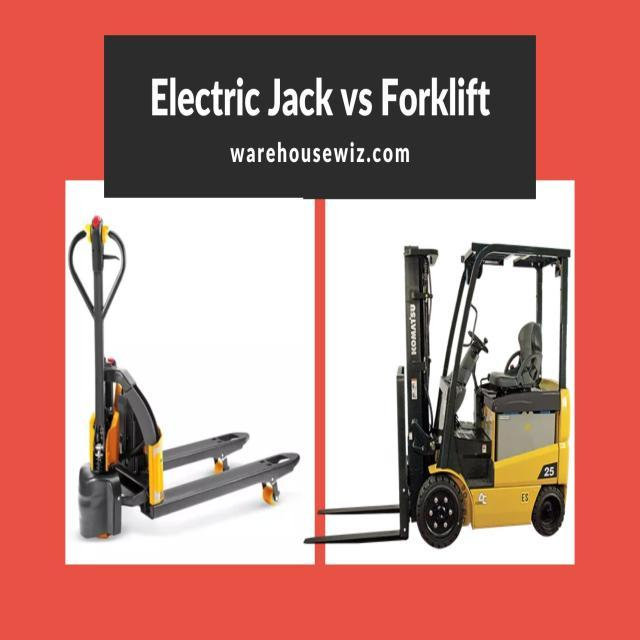forklift: (384, 218, 568, 550)
